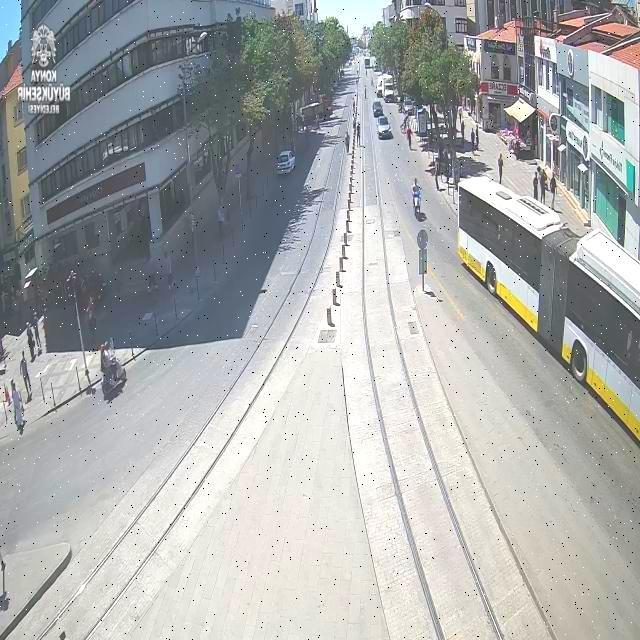Bus: (454, 172, 640, 455)
Car: (276, 148, 296, 179), (377, 117, 394, 141), (372, 100, 384, 118)
Cycle: (99, 336, 131, 398), (408, 178, 423, 218)
